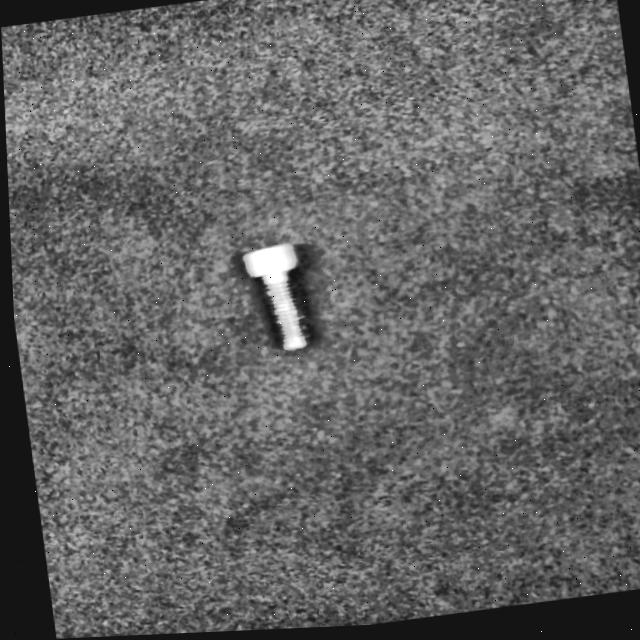Socket head cap screw: (234, 243, 313, 358)
